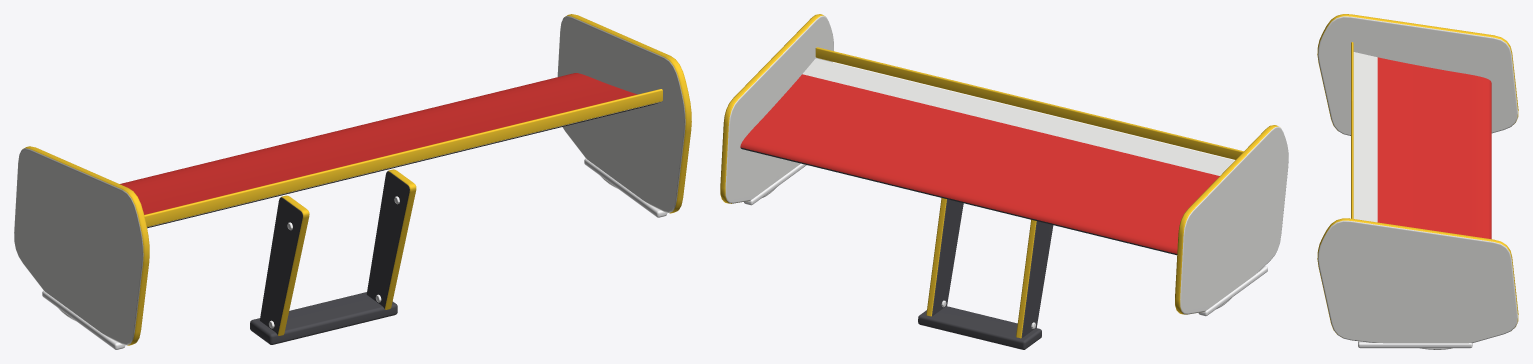
The model's file is spoiler_wing.glb.
The picture shows the model from 3 angles, left to right: view 1: azimuth 30°, elevation 25°; view 2: azimuth 150°, elevation 25°; view 3: azimuth 270°, elevation 25°; orthographic projection. The views are drawn at different scales.
Parts seen in each view (by area): view 1: spoiler_wing; view 2: spoiler_wing; view 3: spoiler_wing.
Part boxes in pixels (x1=…): spoiler_wing: x1=14, y1=14, x2=691, y2=349; spoiler_wing: x1=720, y1=14, x2=1288, y2=349; spoiler_wing: x1=1317, y1=14, x2=1518, y2=349.
Bounding box in the file's own units: 1.03 × 0.4549 × 0.4217.
